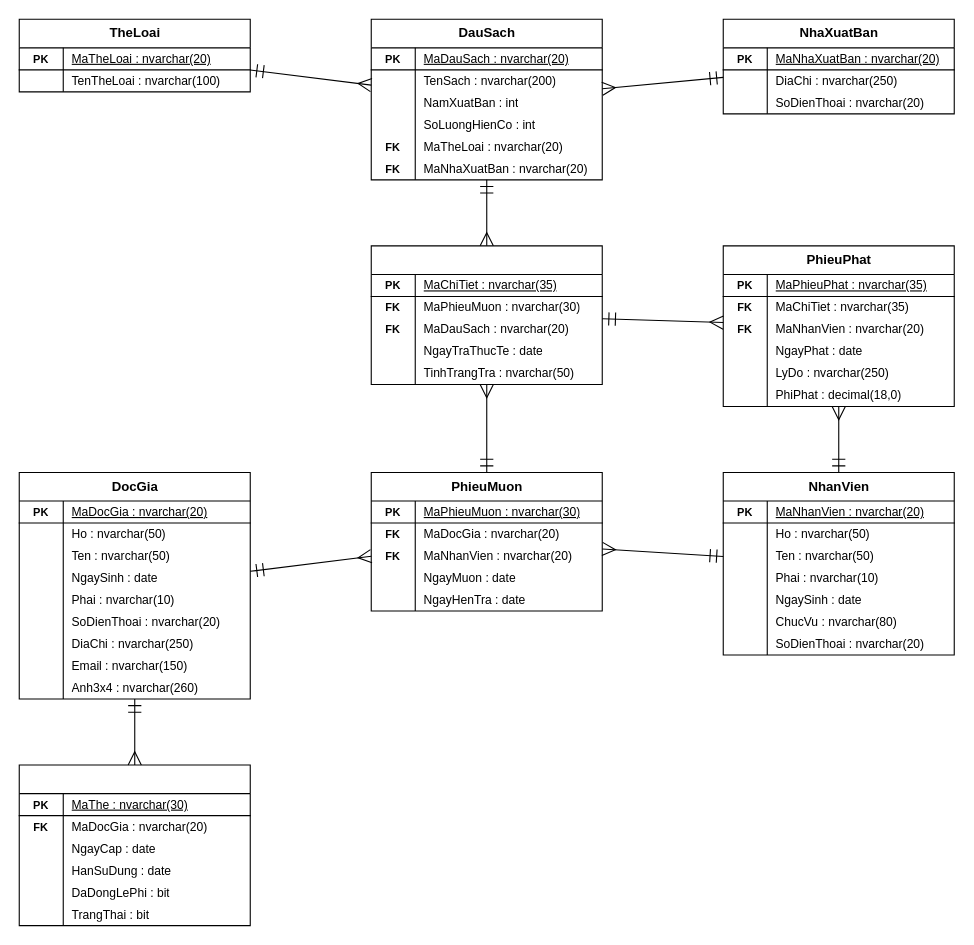
Some shapes in this 974 by 945 pixel diagram are drawn without their labels. Here are the shapes that lost their labels. From the top down, the box of each, then its label:
(370, 245, 602, 384): ChiTietPhieuMuon
(18, 764, 250, 926): TheDocGia
